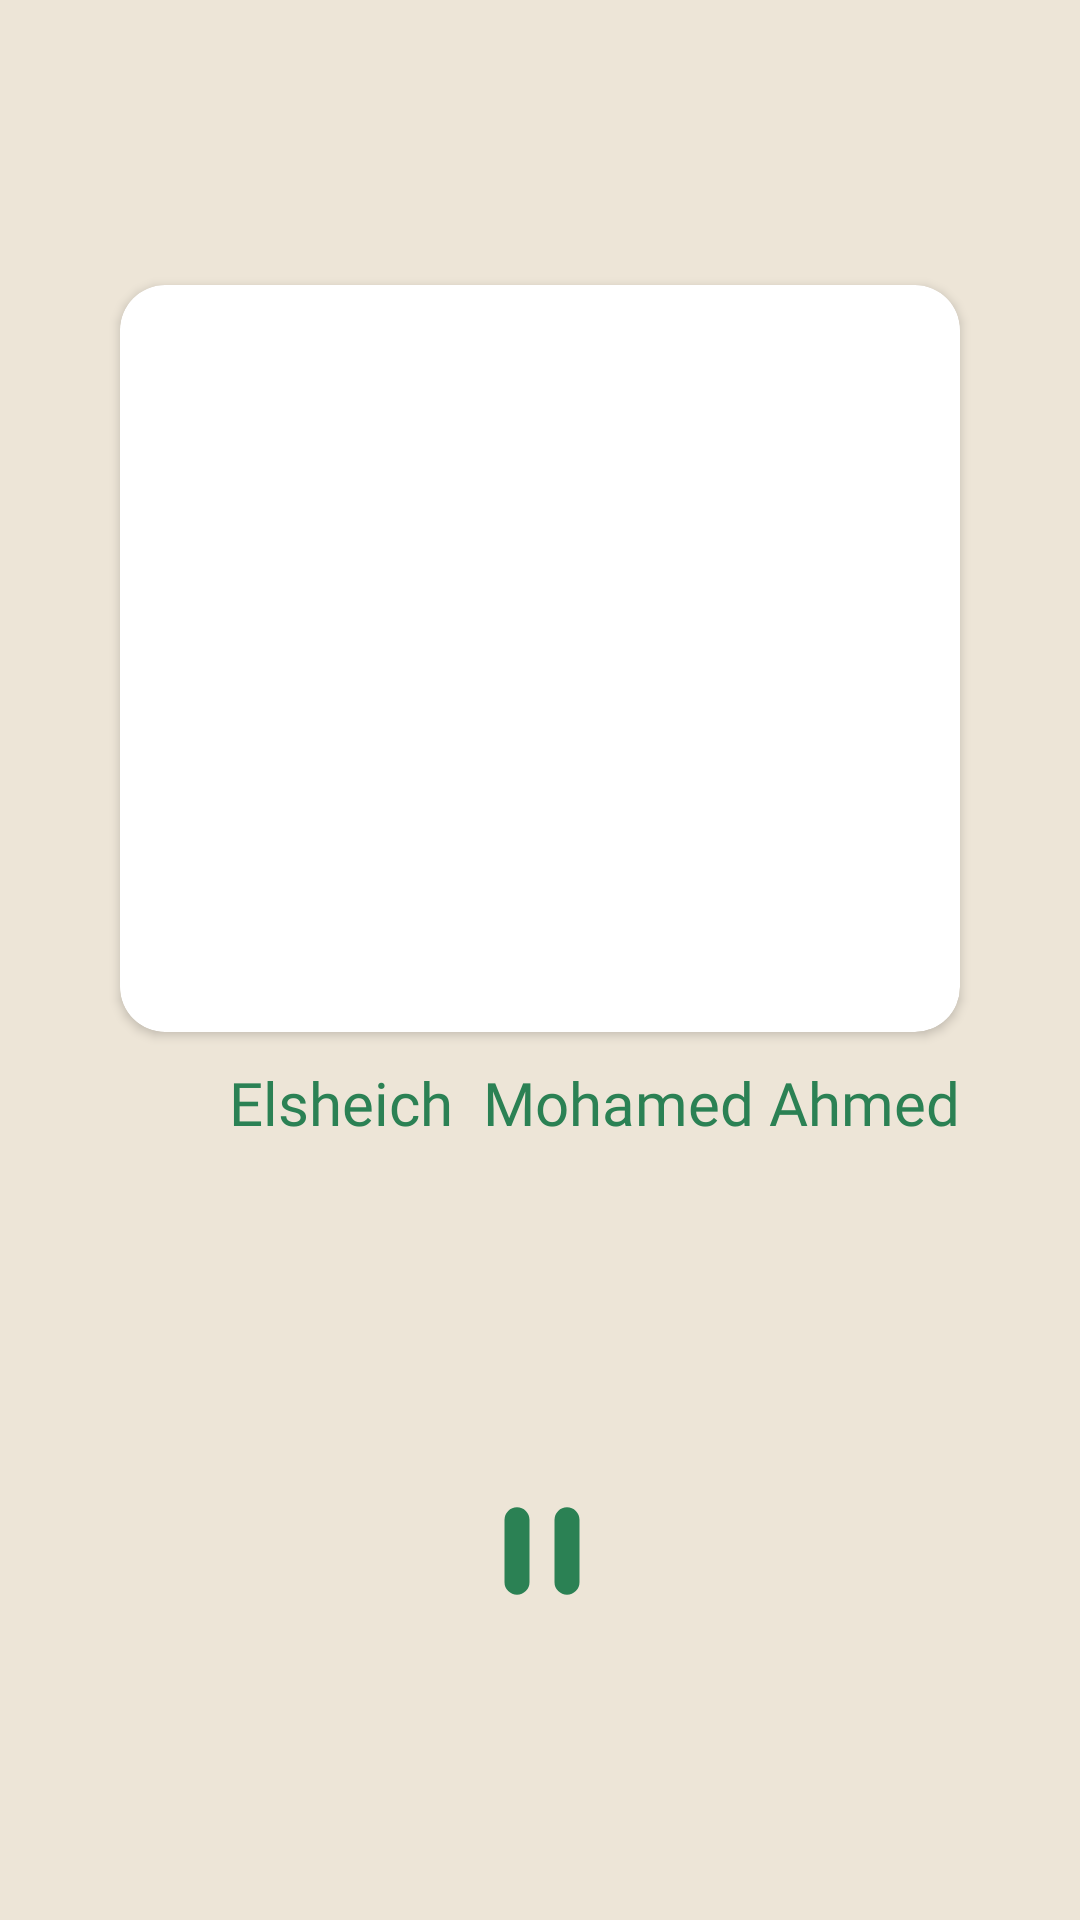

Icon bounding boxes for this 1080px x 1920px phone screenshot, format (x1, y1, x2, y2):
pause: (504, 1507, 580, 1595)
